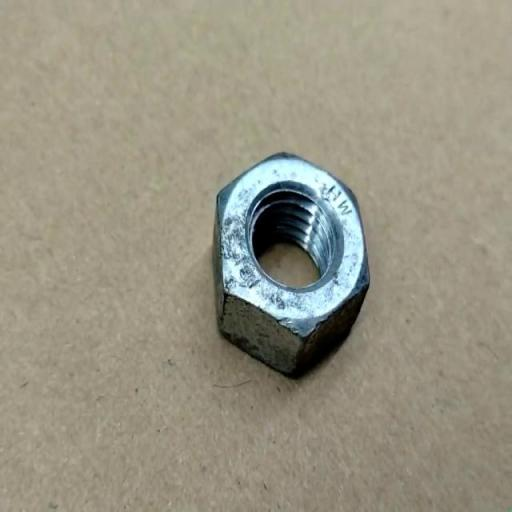Nut: (211, 151, 370, 380)
